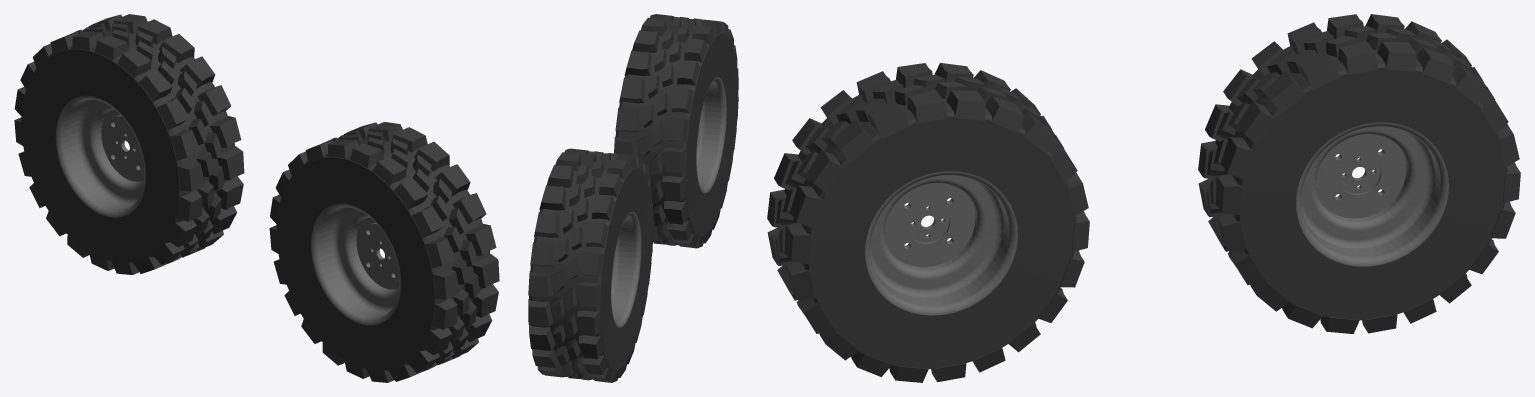
File: robots_05.dae
The picture shows the model from 3 angles, left to right: view 1: azimuth 30°, elevation 25°; view 2: azimuth 150°, elevation 25°; view 3: azimuth 270°, elevation 25°; orthographic projection. The views are drawn at different scales.
Parts seen in each view (by area): view 1: Object022; view 2: Object022; view 3: Object022.
Boxes of the visible parts, bbox=[...] form: Object022: bbox=[14, 14, 499, 382]; Object022: bbox=[528, 14, 738, 382]; Object022: bbox=[767, 14, 1520, 382].
Size of the model in its own units: 32.65 by 86.26 by 35.4.
Materials: 1 (1 with a texture image).
